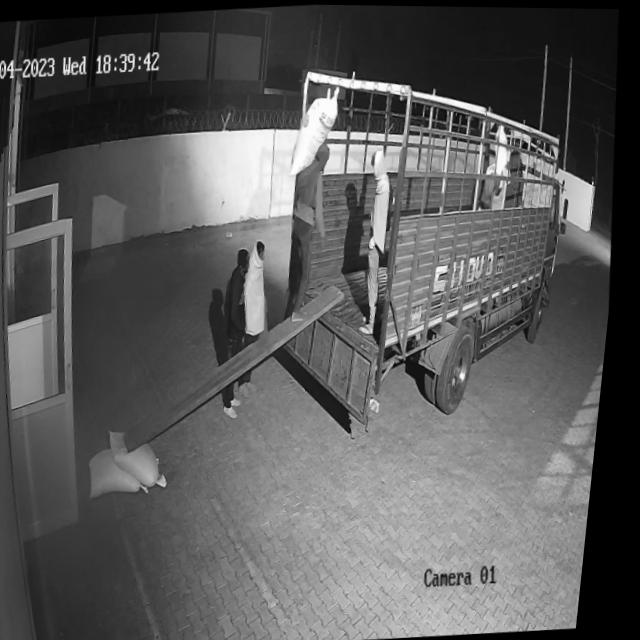sack: (289, 96, 346, 173), (111, 423, 175, 488), (94, 445, 164, 497)
